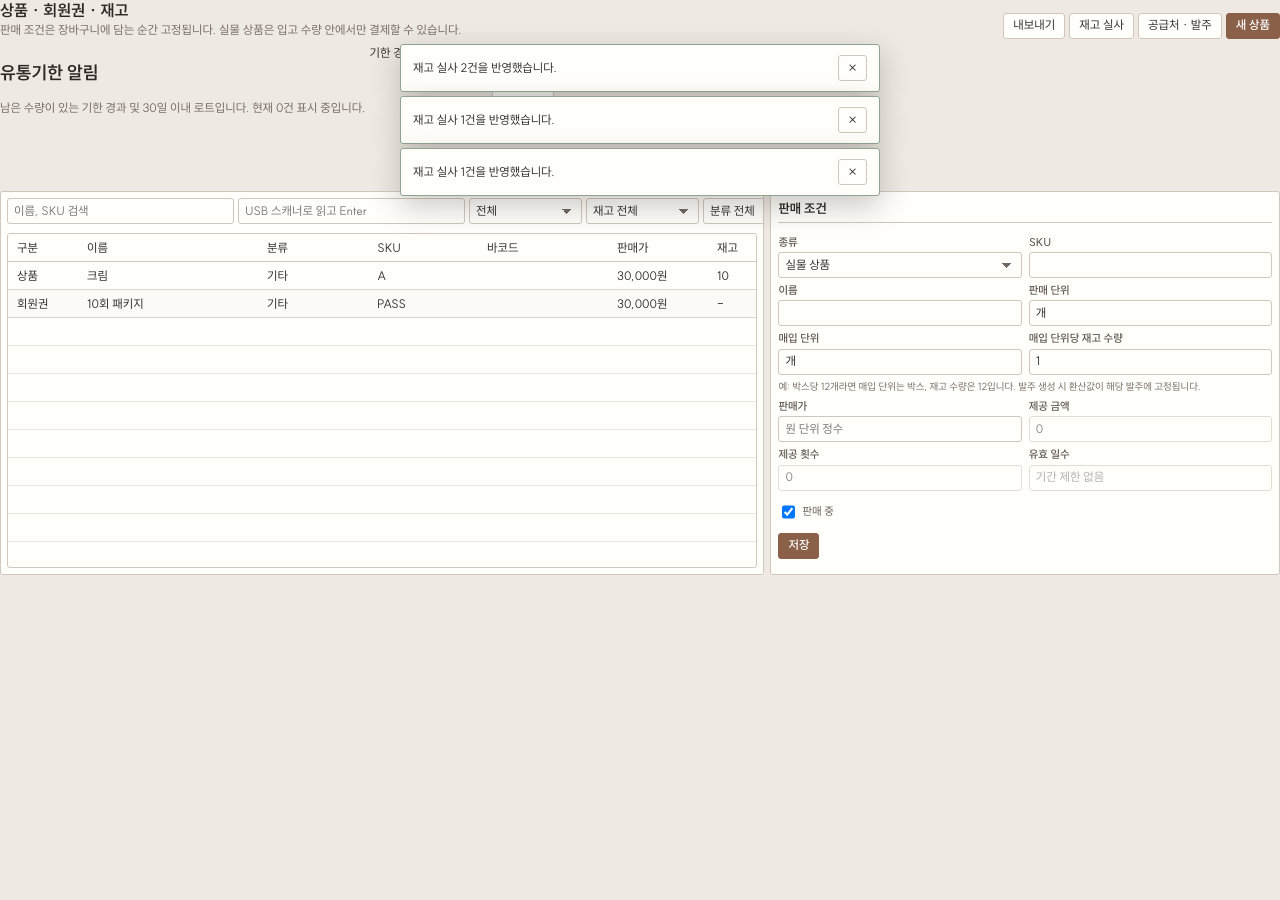
Test: InventoryPage 재고 실사 진입 › 관리자는 실물 상품만 실사 대상으로 열고, 반영한 재고가 목록에 보인다
Check: the text "10회 패키지" is shown, box 78,290 -> 258,318
Click the button "재고 실사": (1102, 26) 1069,13 -> 1134,39
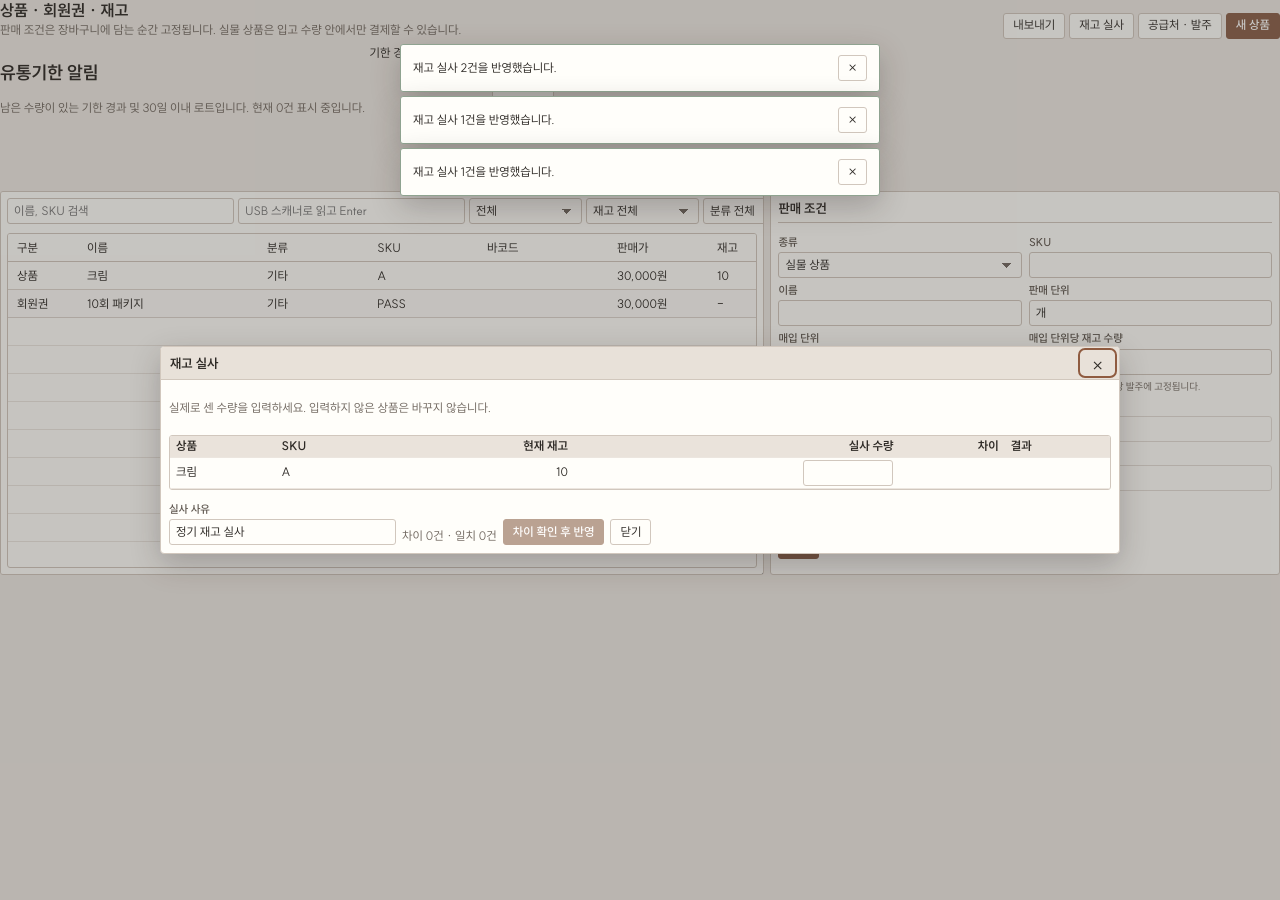
Check: the number field named "크림 실사 수량" is shown, box 803,460 -> 893,486
